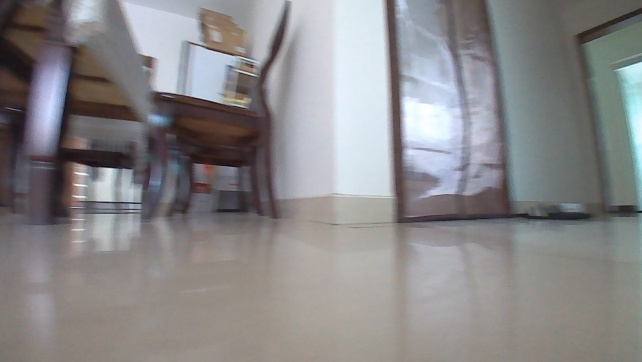dining_table: (0, 0, 290, 228)
